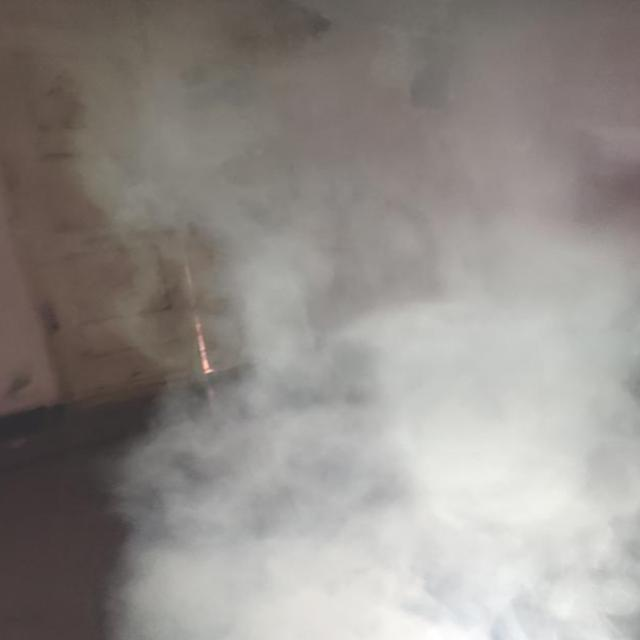fire: (91, 9, 632, 640)
